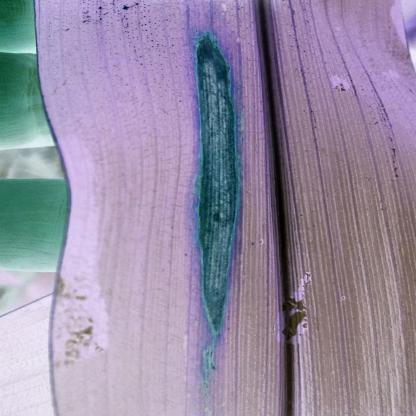Corn leaf blight: (48, 0, 404, 416)
